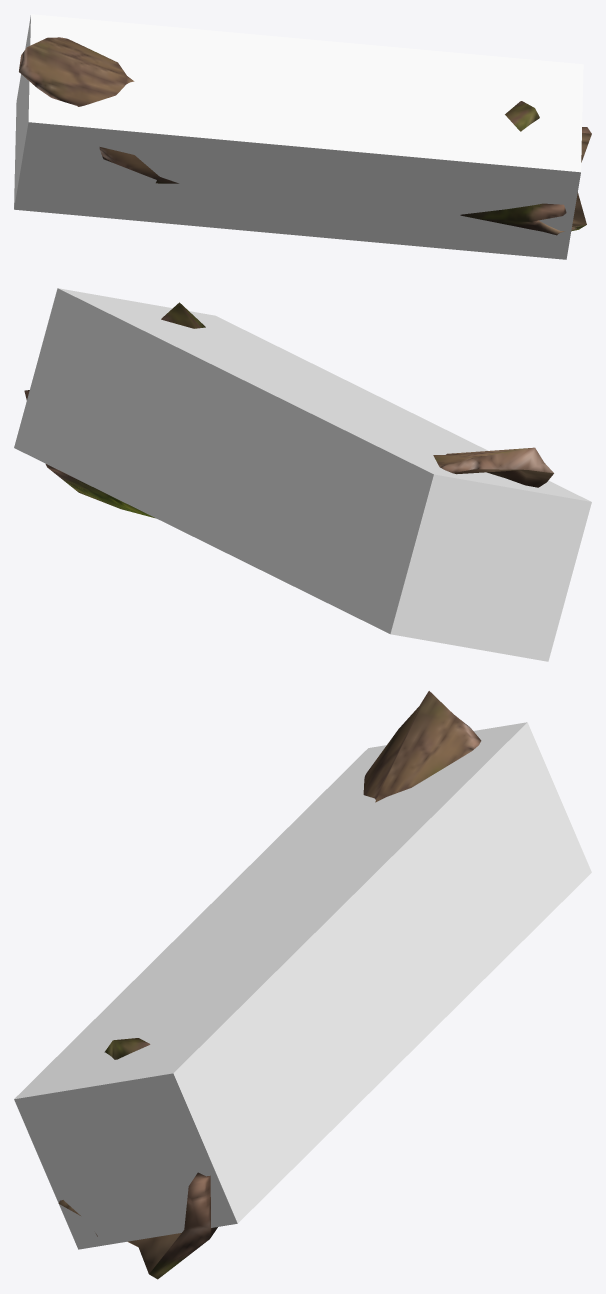
Rendered from Timber_G.fbx.
3 renders of one model, top to bottom at view 1: azimuth 30°, elevation 25°; view 2: azimuth 150°, elevation 25°; view 3: azimuth 270°, elevation 25°, orthographic. The views are drawn at different scales.
Parts seen in each view (by area): view 1: Cube__4_, Timber_G; view 2: Cube__4_, Timber_G; view 3: Cube__4_, Timber_G.
Part boxes in pixels (box(x1,y1,x2,y2)): Cube__4_: box(14, 14, 583, 259); Timber_G: box(19, 37, 591, 235); Cube__4_: box(14, 288, 591, 661); Timber_G: box(24, 302, 553, 518); Cube__4_: box(14, 722, 591, 1249); Timber_G: box(58, 691, 481, 1279).
Bounding box in the file's own units: 691 × 290 × 518.
Materials: 2 (1 with a texture image).
